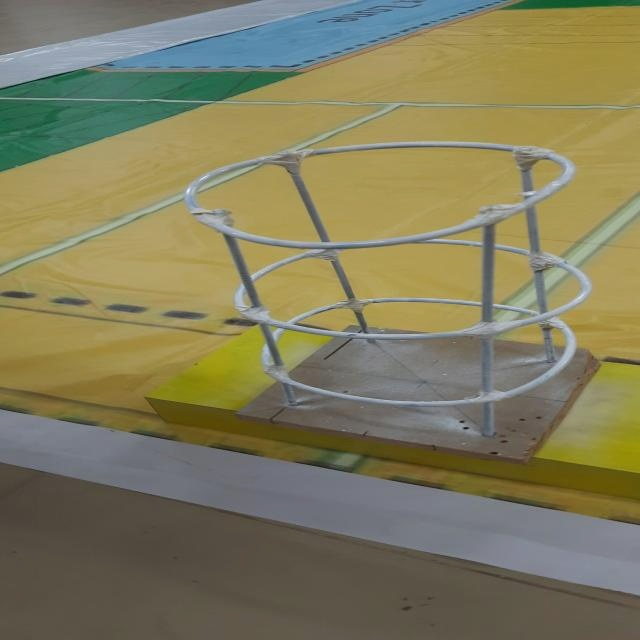silo: (150, 128, 619, 463)
